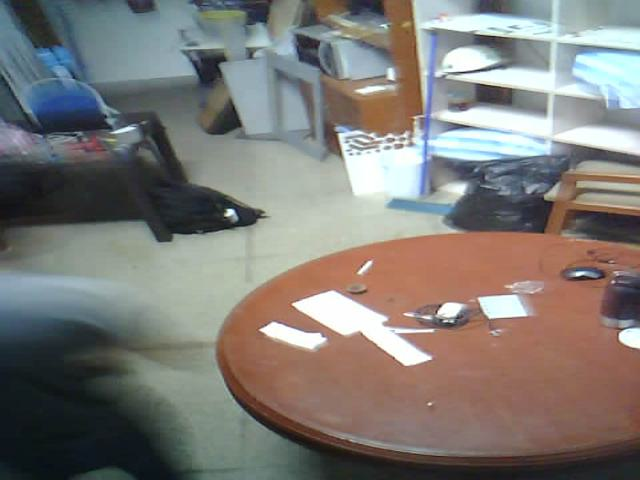person: (2, 231, 236, 480)
